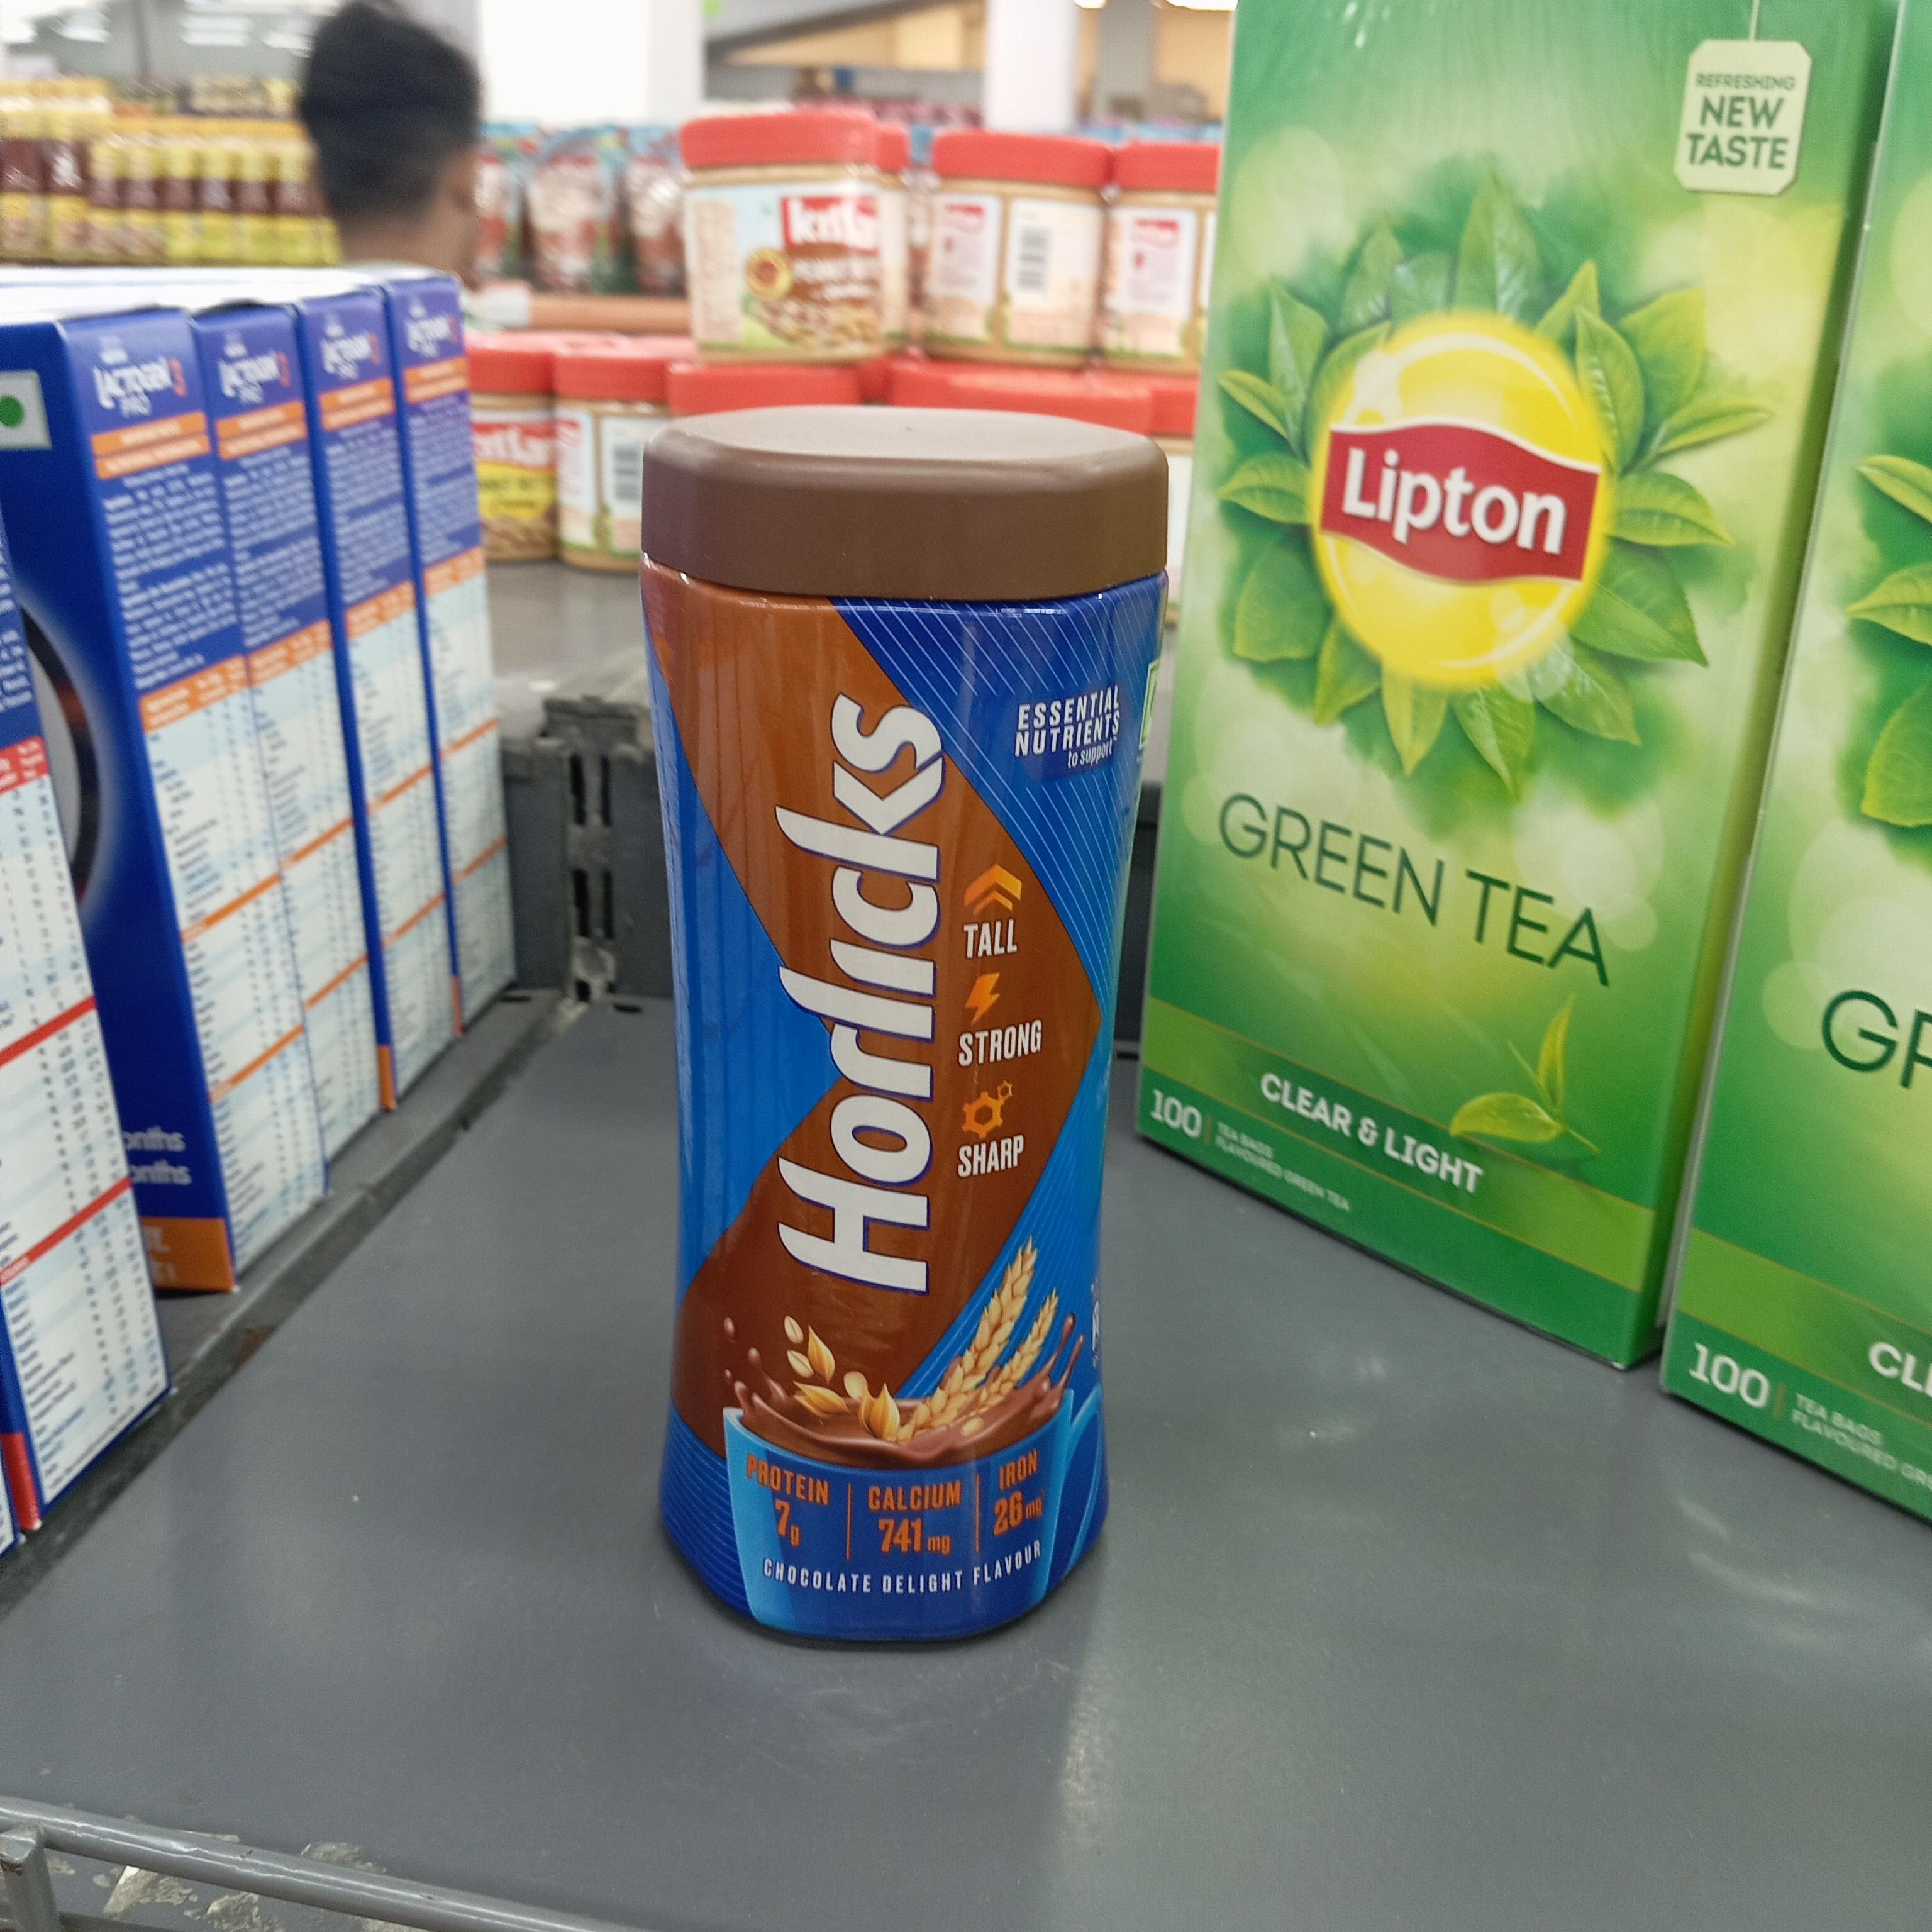HORLICK_CHOCOLATE_500_G_JAR: (648, 409, 1131, 1668)
